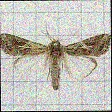Spodoptera litura: (1, 20, 111, 91)
